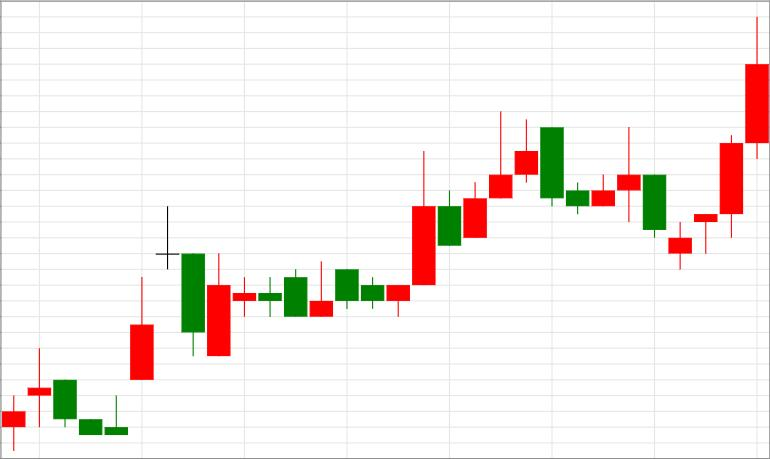shooting_star_fall: (386, 112, 513, 319)
